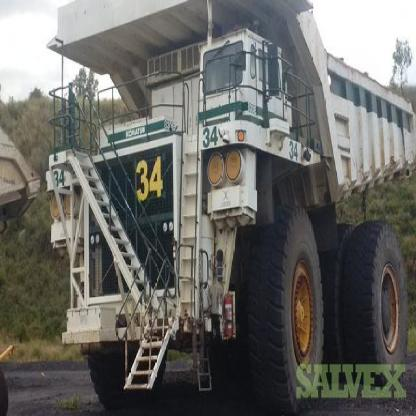dump_truck: (44, 2, 413, 392)
